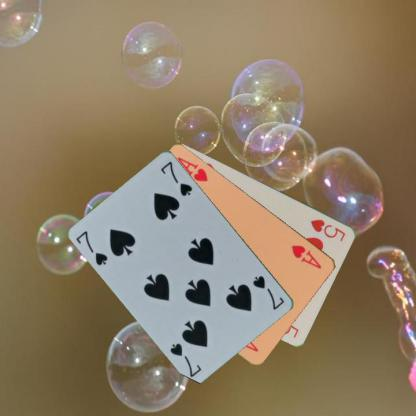5h: (308, 216, 347, 243)
7s: (74, 228, 110, 267), (250, 273, 286, 311)
Ah: (289, 242, 323, 270)
